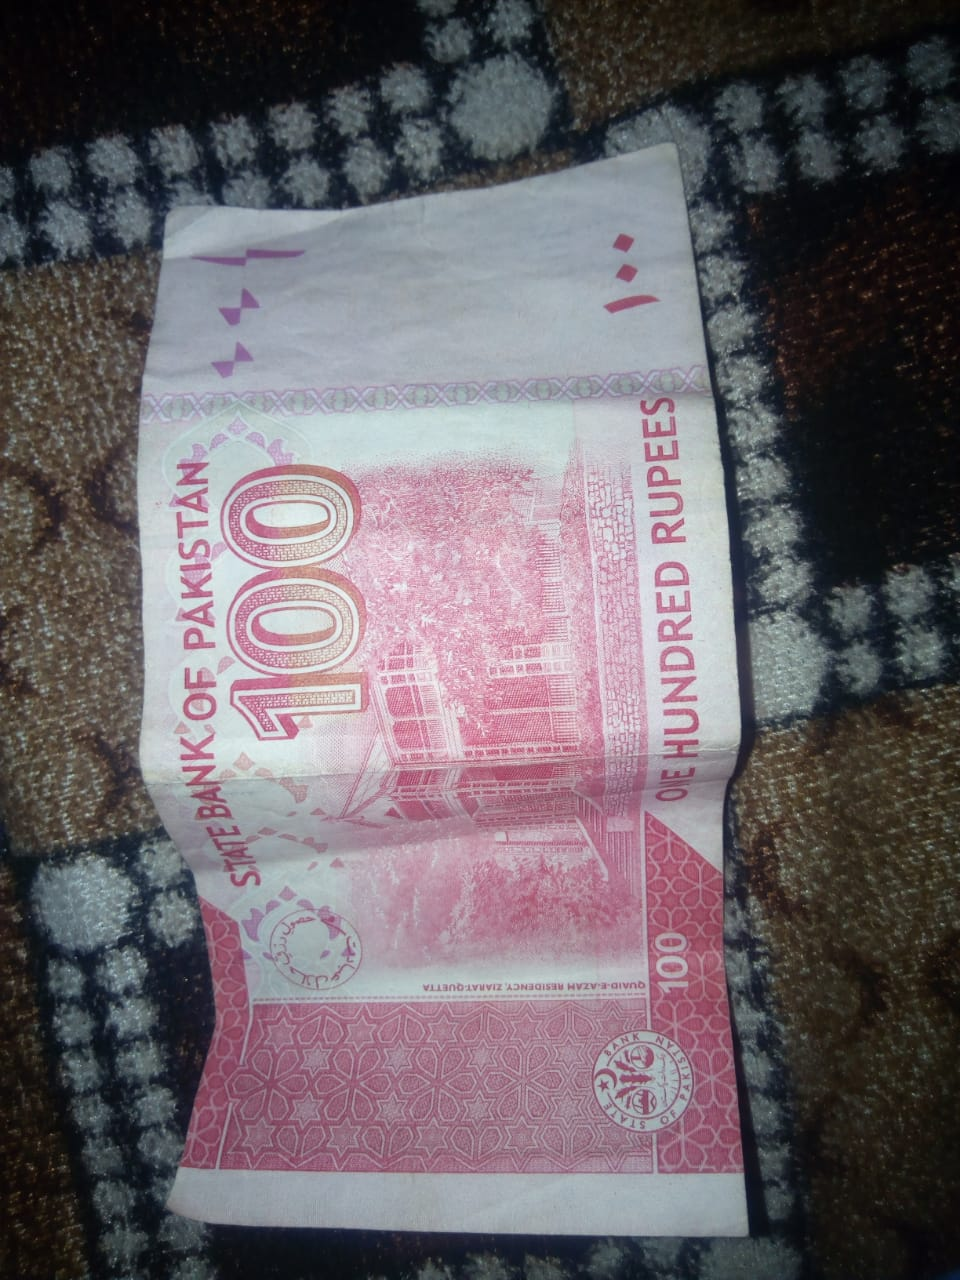100 rupee: (142, 131, 761, 1242)
